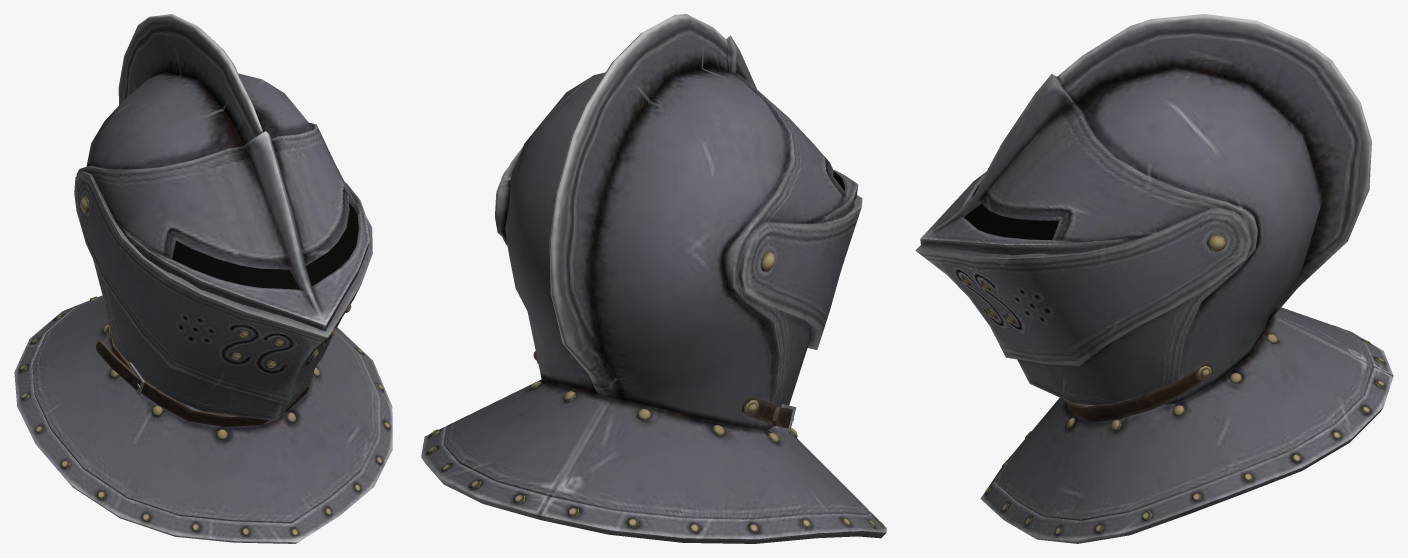
The model's file is knight_helm_real.glb.
The picture shows the model from 3 angles, left to right: view 1: azimuth 30°, elevation 25°; view 2: azimuth 150°, elevation 25°; view 3: azimuth 270°, elevation 25°; orthographic projection. The views are drawn at different scales.
Parts seen in each view (by area): view 1: Helm_01:MESH_Helm; view 2: Helm_01:MESH_Helm; view 3: Helm_01:MESH_Helm.
Boxes of the visible parts, left/top/right/bottom form: Helm_01:MESH_Helm: left=14, top=14, right=392, bottom=543; Helm_01:MESH_Helm: left=421, top=14, right=886, bottom=543; Helm_01:MESH_Helm: left=915, top=14, right=1393, bottom=543.
Size of the model in its own units: 3.15 by 3.97 by 3.52.
1 material, 1 textured.
